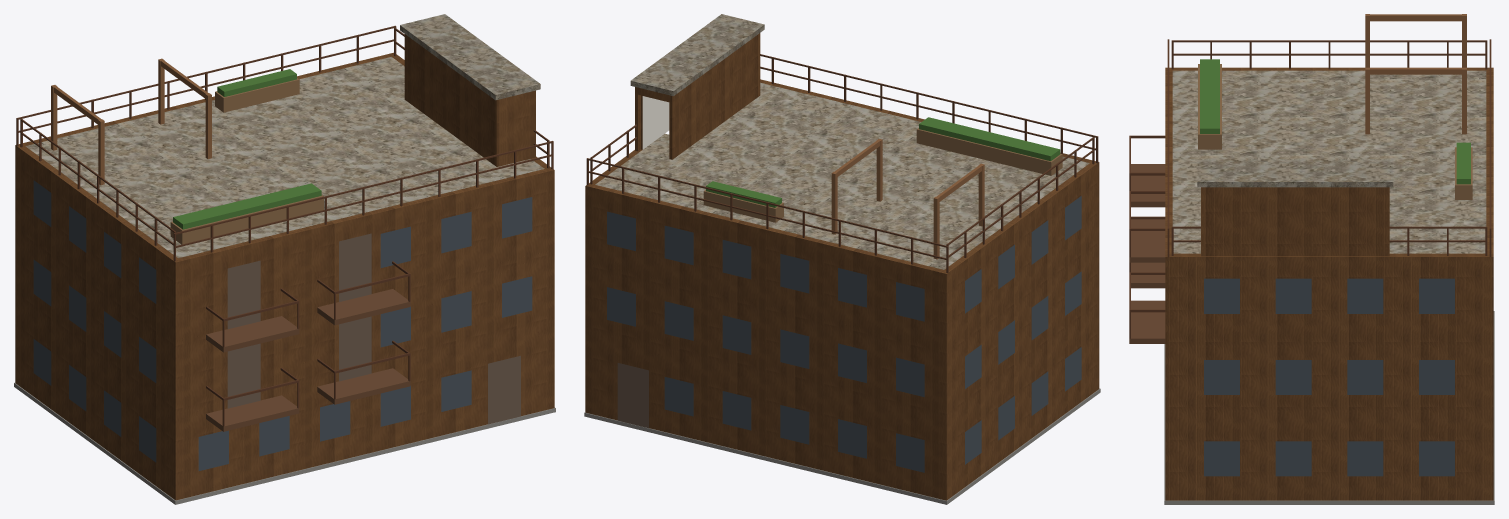
Rendered from rw-river-flats.towns-v1.lod1.glb.
3 views of the same model, side by side, from view 1: azimuth 30°, elevation 25°; view 2: azimuth 150°, elevation 25°; view 3: azimuth 270°, elevation 25° (orthographic). The views are drawn at different scales.
Visible parts, largest first — view 1: rw-river-flats; view 2: rw-river-flats; view 3: rw-river-flats.
Part boxes in pixels (x1,y1,x2,y2): rw-river-flats: [14, 14, 555, 504]; rw-river-flats: [584, 14, 1100, 504]; rw-river-flats: [1129, 14, 1494, 504].
Bounding box in the file's own units: 15.1 × 11.95 × 12.23.
Materials: 3 (2 with a texture image).
